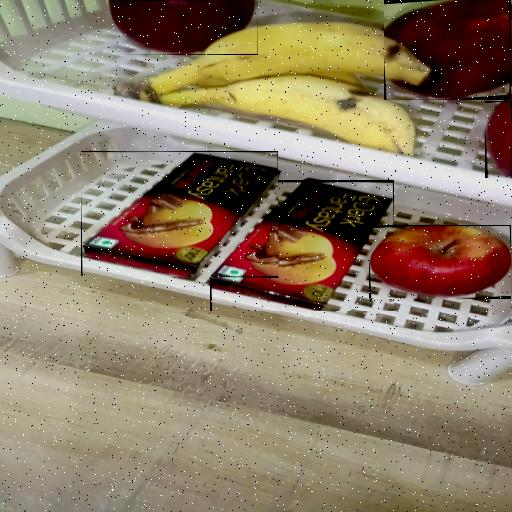Apple: (384, 0, 511, 100), (369, 226, 511, 300), (112, 0, 258, 55), (485, 101, 512, 178)
Choco Fills: (81, 152, 278, 278), (210, 180, 394, 311)
